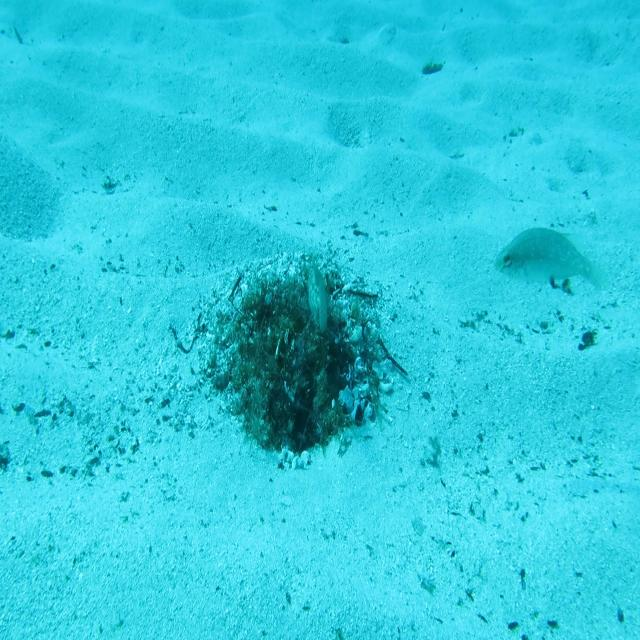NIP_CORE: (306, 256, 330, 337)
core_nest: (268, 297, 327, 341)
female: (492, 224, 610, 297)
nest: (193, 240, 400, 483)
vegetation: (422, 57, 442, 77)
